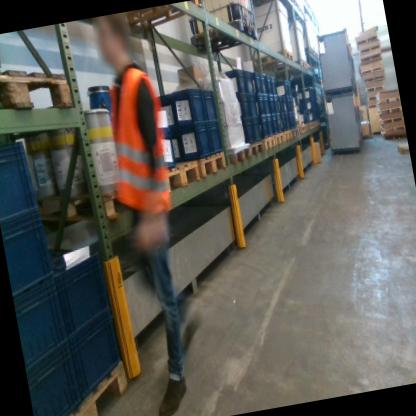pallet: (26, 179, 141, 238), (28, 361, 137, 416), (0, 51, 78, 114), (115, 0, 204, 34), (158, 154, 204, 194), (250, 47, 295, 73), (197, 147, 229, 181), (223, 138, 253, 169), (270, 60, 307, 78), (283, 64, 314, 82), (298, 45, 320, 65), (278, 0, 300, 17), (355, 31, 378, 46), (248, 138, 264, 159), (378, 113, 403, 125), (380, 121, 405, 133), (382, 131, 407, 143), (262, 130, 275, 153), (358, 51, 381, 64), (373, 93, 399, 104), (289, 123, 302, 144), (375, 105, 401, 115), (363, 83, 385, 94), (271, 129, 286, 145), (297, 77, 318, 88), (360, 65, 383, 75), (358, 42, 381, 52), (283, 123, 293, 144), (363, 74, 386, 83), (396, 139, 409, 154), (293, 117, 302, 127), (298, 124, 307, 133), (367, 101, 377, 109), (366, 95, 377, 102)
small_load_carrier: (42, 235, 118, 344), (12, 271, 76, 375), (65, 308, 132, 401), (0, 203, 60, 305), (23, 338, 87, 416), (0, 134, 45, 233), (169, 80, 208, 129), (178, 119, 214, 162), (154, 91, 181, 130), (151, 127, 176, 166), (160, 123, 185, 158), (221, 65, 247, 96), (200, 84, 220, 119), (206, 118, 226, 150), (231, 89, 252, 119), (237, 115, 256, 141), (255, 70, 271, 98), (241, 69, 256, 95), (0, 35, 11, 66), (248, 92, 259, 122), (275, 76, 290, 98), (263, 70, 274, 99), (257, 113, 270, 135), (254, 93, 266, 116), (251, 71, 262, 94), (261, 93, 272, 114), (269, 75, 279, 98), (252, 117, 263, 137), (272, 93, 281, 116), (269, 113, 279, 133), (302, 85, 313, 103), (294, 87, 305, 103), (268, 93, 276, 114), (276, 113, 284, 132), (304, 100, 315, 113), (286, 78, 293, 98), (282, 95, 290, 112), (266, 115, 273, 134), (287, 111, 294, 129), (290, 111, 298, 126), (306, 112, 316, 124), (283, 111, 290, 128), (285, 97, 292, 112), (278, 98, 285, 113), (280, 112, 287, 127), (289, 99, 295, 113)
